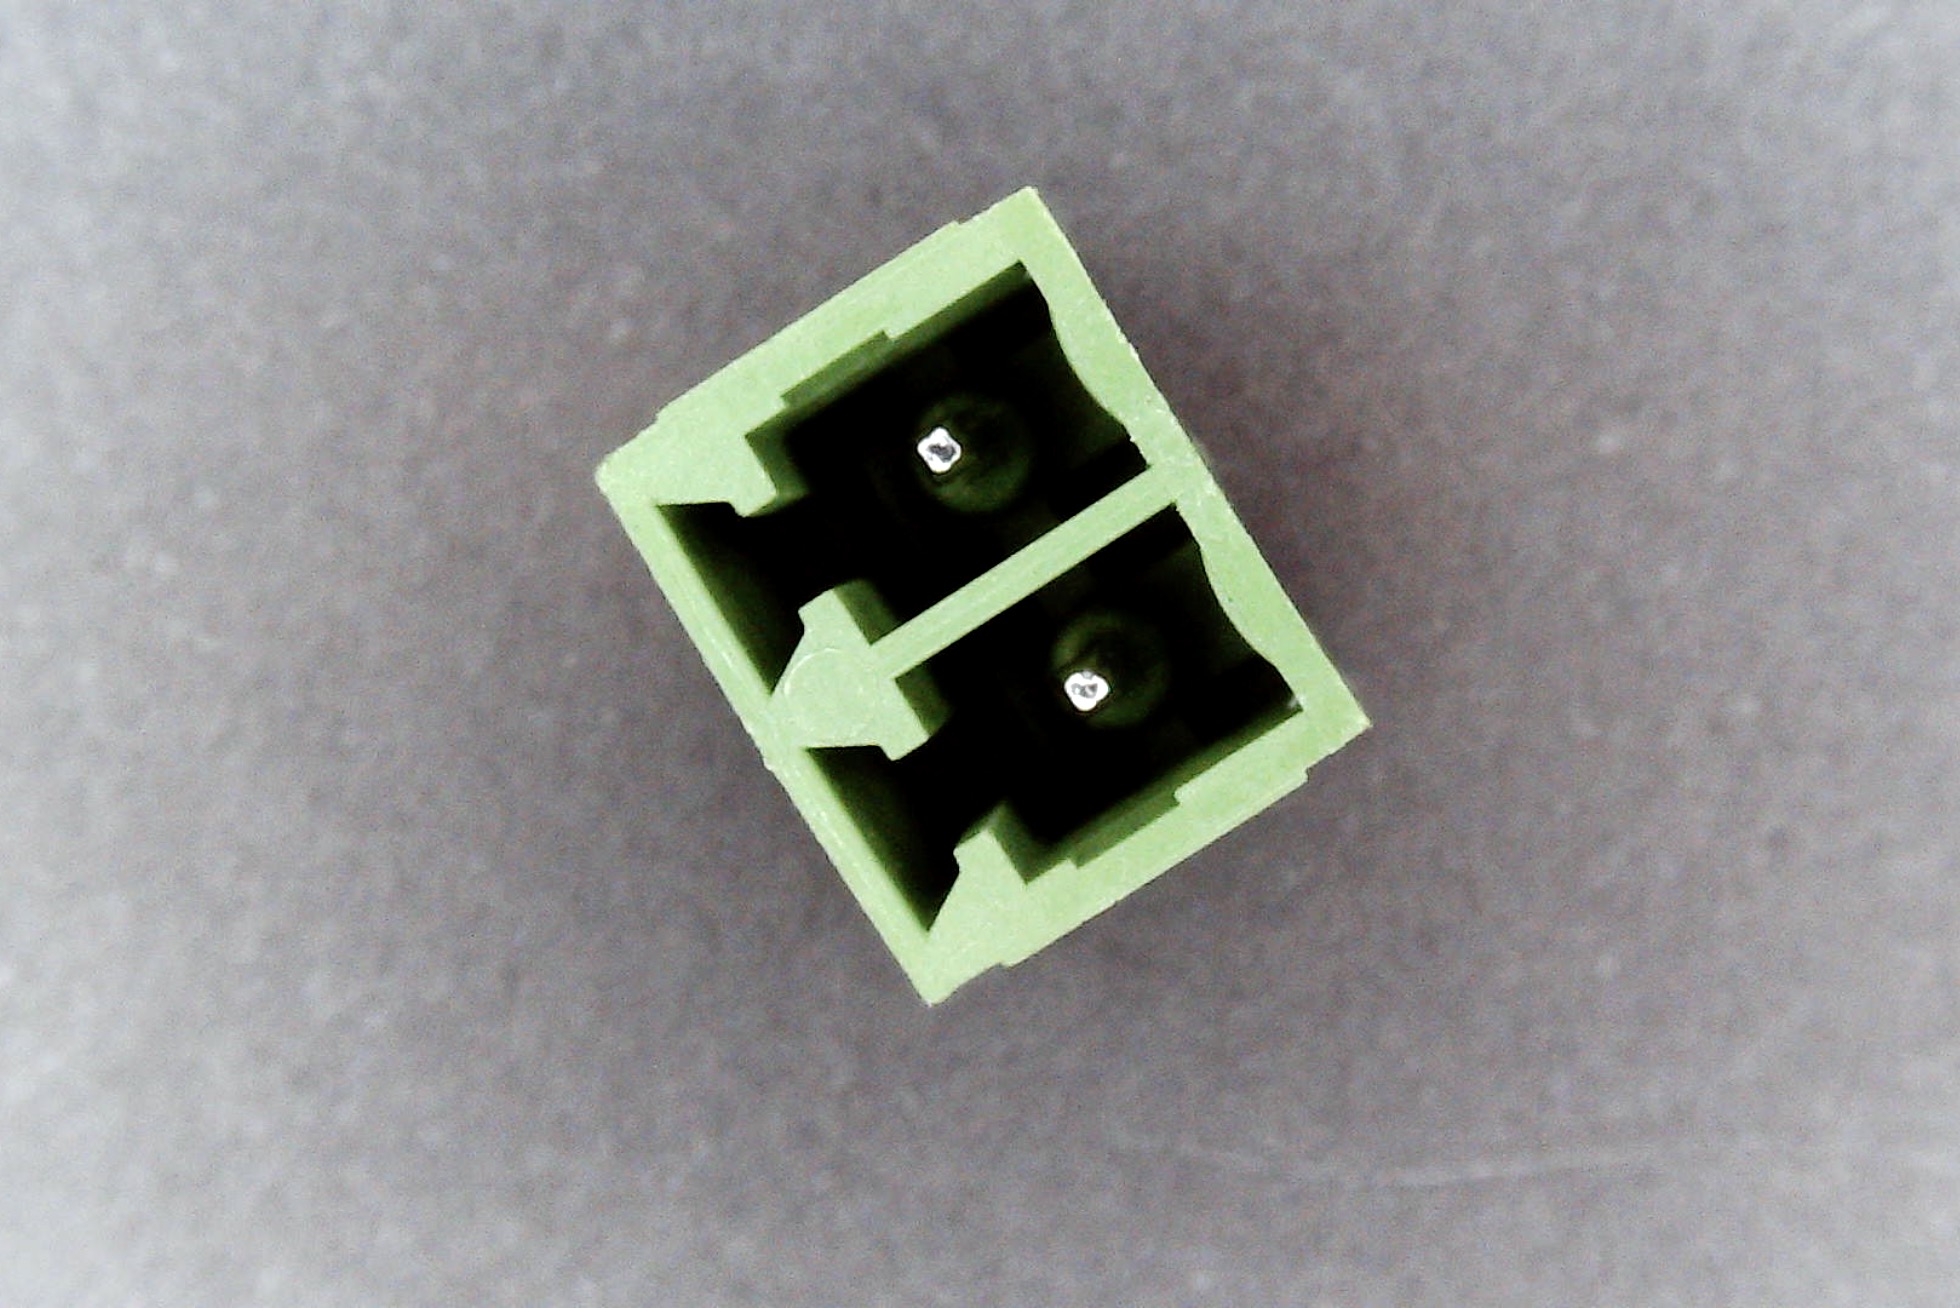bbox: (597, 182, 1372, 1017)
